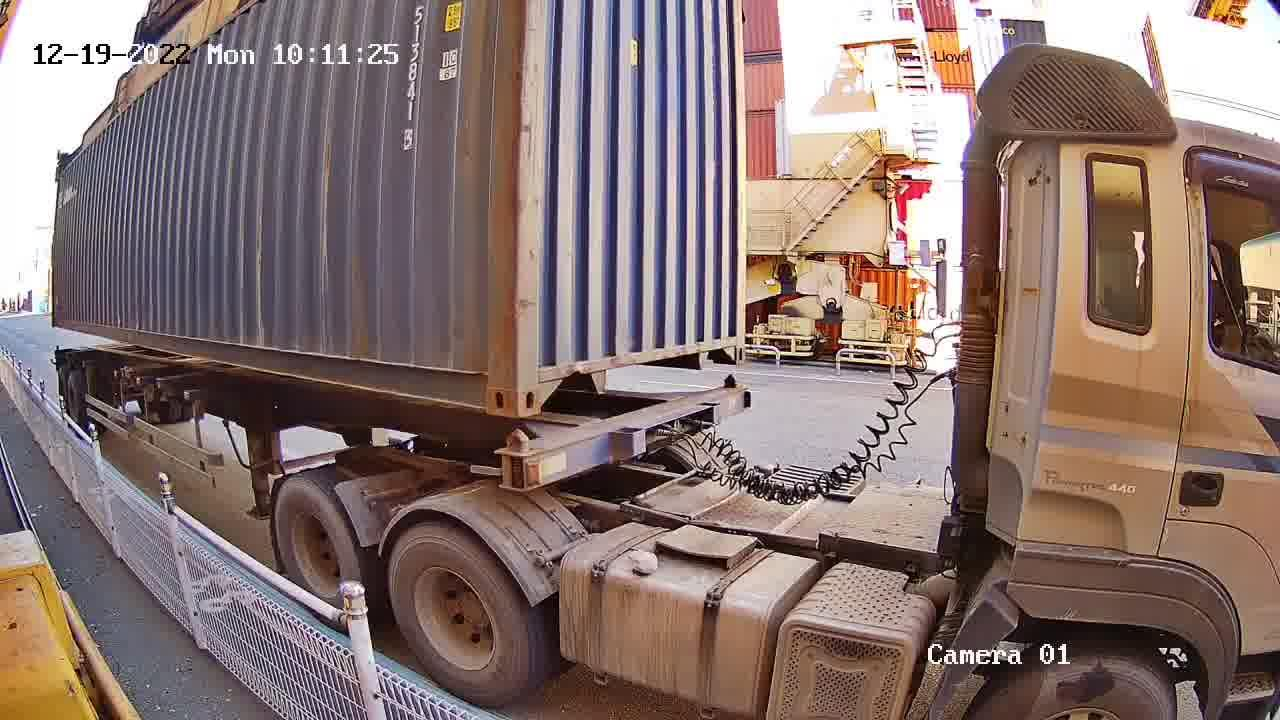Chassis: (499, 384, 750, 490)
Cone: (500, 427, 529, 491), (723, 373, 740, 395)
Hole_L: (518, 351, 564, 416)
Hole_R: (462, 351, 514, 415), (720, 325, 749, 366)
Tire: (391, 523, 525, 705), (275, 480, 362, 607)
